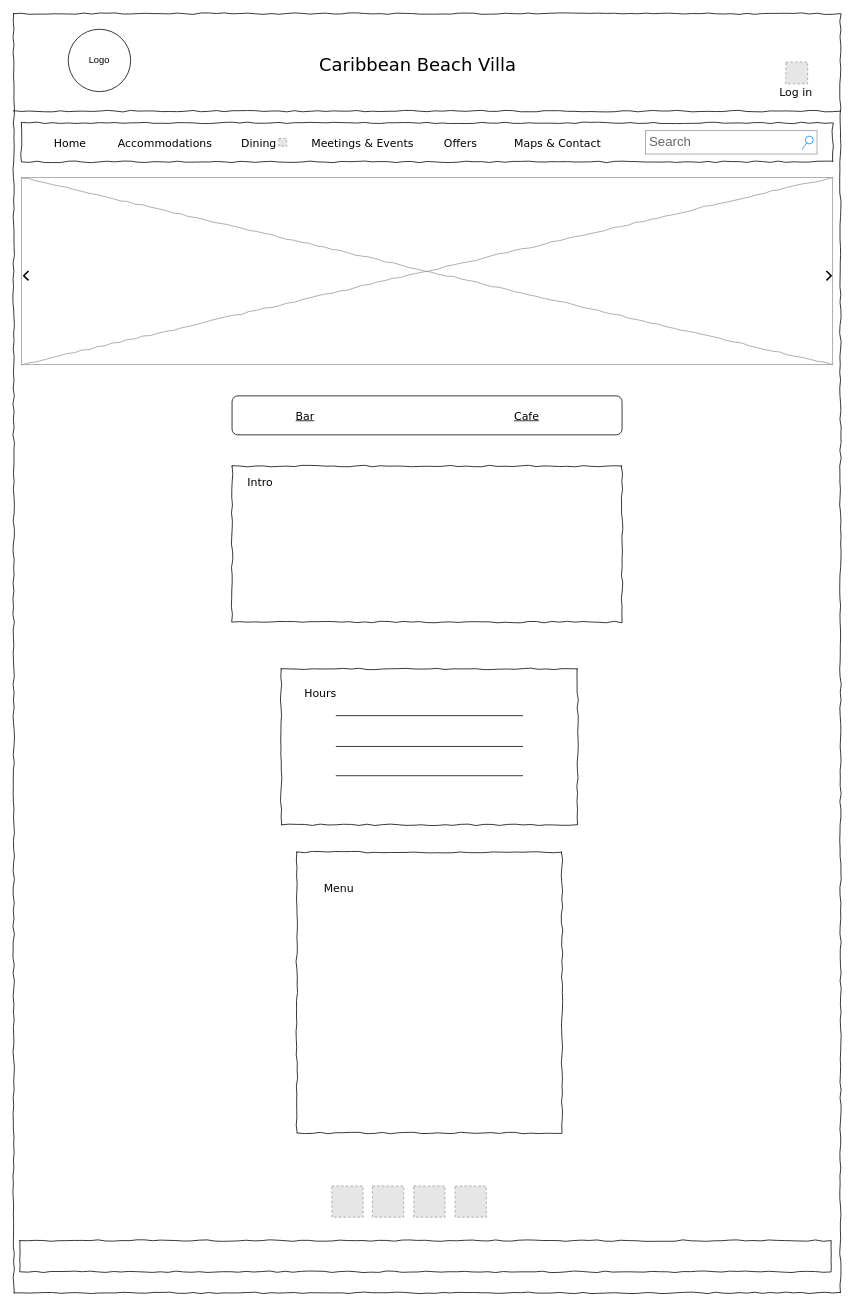
This 854x1307 diagram has some shape labels left out. Grey dashed boxes stand in for pictures. The shapes that lost their labels are listed below. From the top down, each one's box as (x1, y1, x2, y2) in pixels, then its label:
(21, 177, 833, 365): Slideshow (Exterior & Interior pics)
(19, 1240, 831, 1272): Footer
